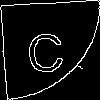C: (24, 24, 66, 74)
